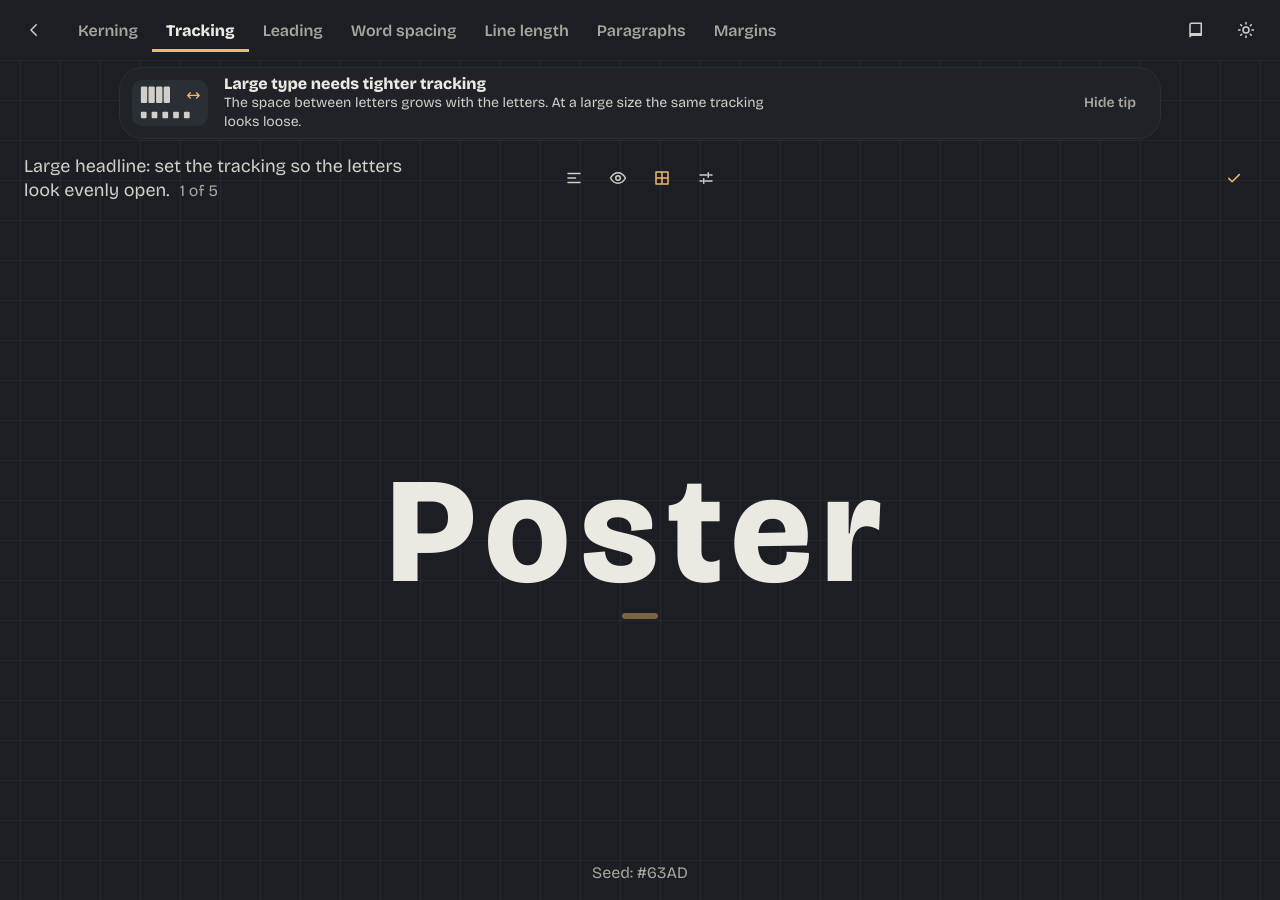
Scenario: Design Playground › lets the learner retry an exercise as practice, and compare with the ideal
Step 1. Click the button named "Lock in answer" → (1234, 178), box [1212,156,1256,200]
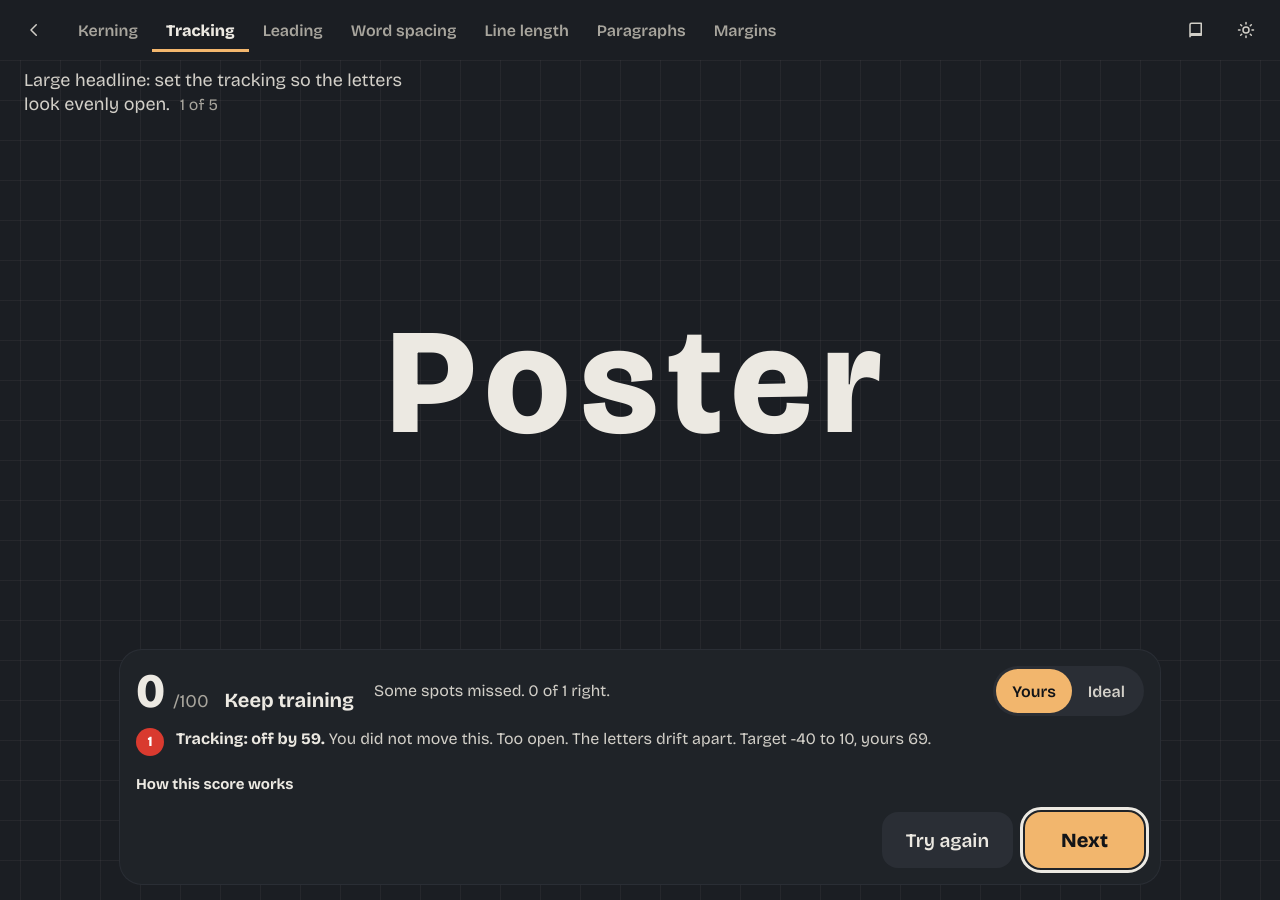
Step 2. Click the button "Ideal" → (1106, 691), box [1072,669,1141,713]
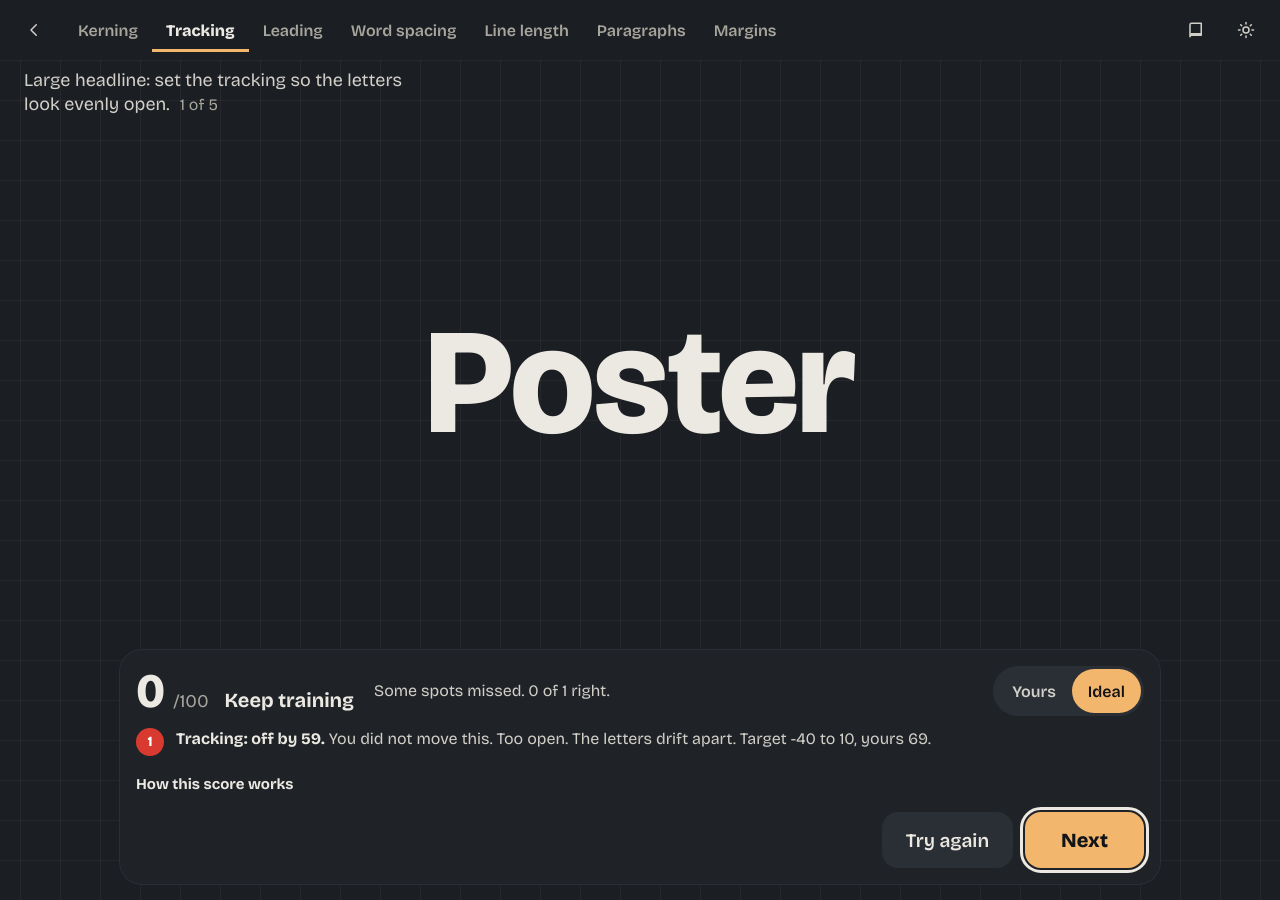
Step 3. Click the button "Try again" → (947, 840), box [882,812,1013,868]
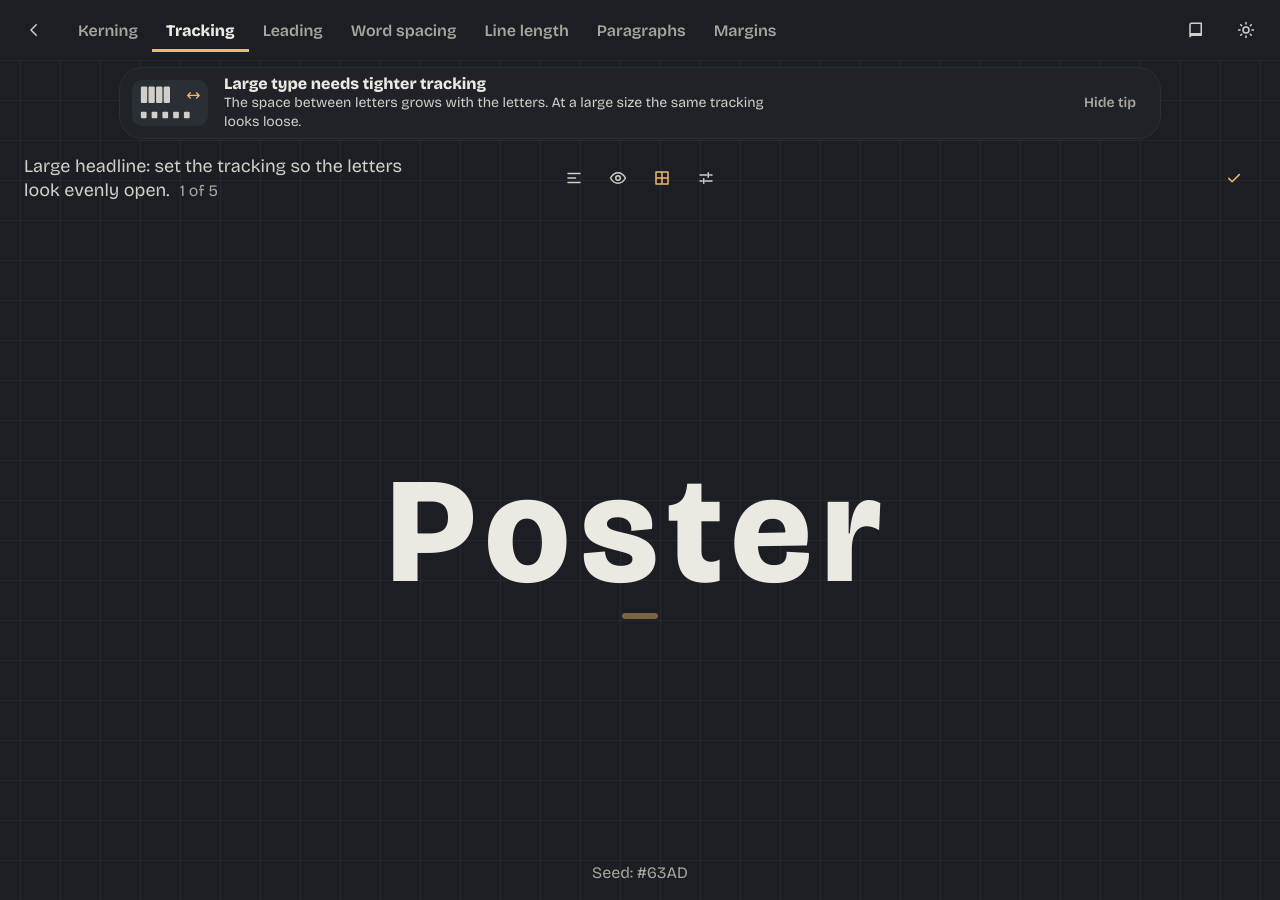
Expected: the text "1 of 5" is shown, [180,181,218,200]
Step 4. Click the button named "Lock in answer" → (1234, 178), box [1212,156,1256,200]
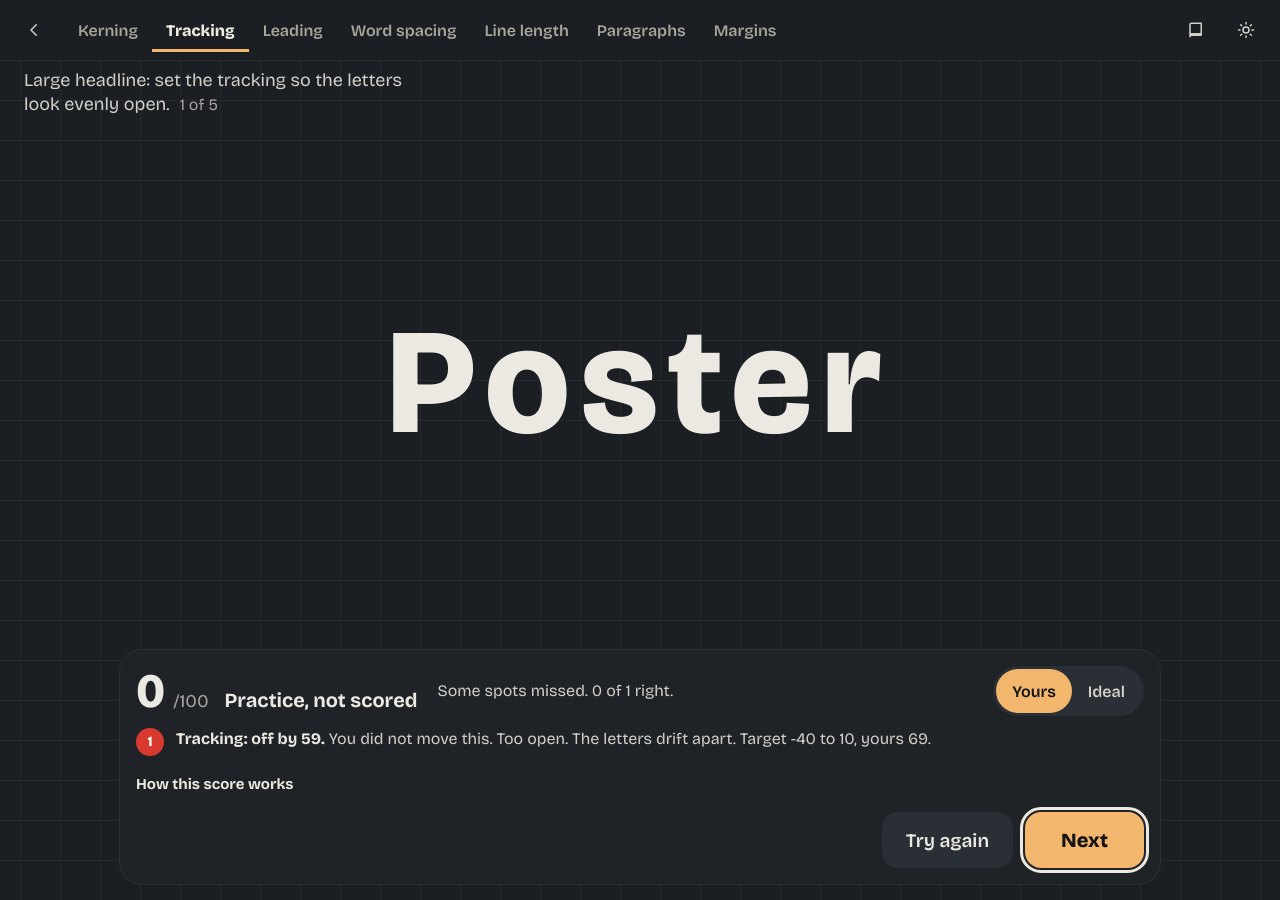
Expected: the text "Practice, not scored" is shown, [225,685,418,715]
